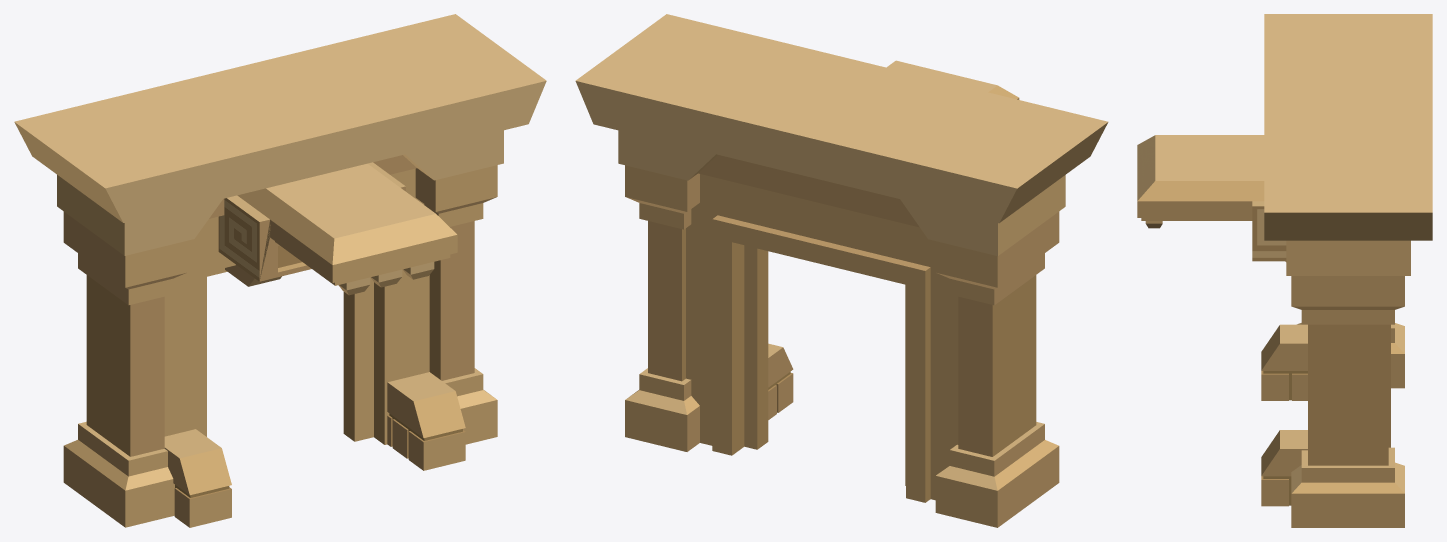
The model's file is ST_Env_Doorway_02.fbx.
3 views of the same model, side by side, from view 1: azimuth 30°, elevation 25°; view 2: azimuth 150°, elevation 25°; view 3: azimuth 270°, elevation 25° (orthographic). The views are drawn at different scales.
Parts seen in each view (by area): view 1: ST_Env_Doorway_02; view 2: ST_Env_Doorway_02; view 3: ST_Env_Doorway_02.
Boxes of the visible parts, x1,y1,x2,y2 form: ST_Env_Doorway_02: [14, 14, 546, 527]; ST_Env_Doorway_02: [575, 14, 1108, 527]; ST_Env_Doorway_02: [1137, 14, 1432, 527].
Size of the model in its own units: 6.44 by 5 by 4.05.
